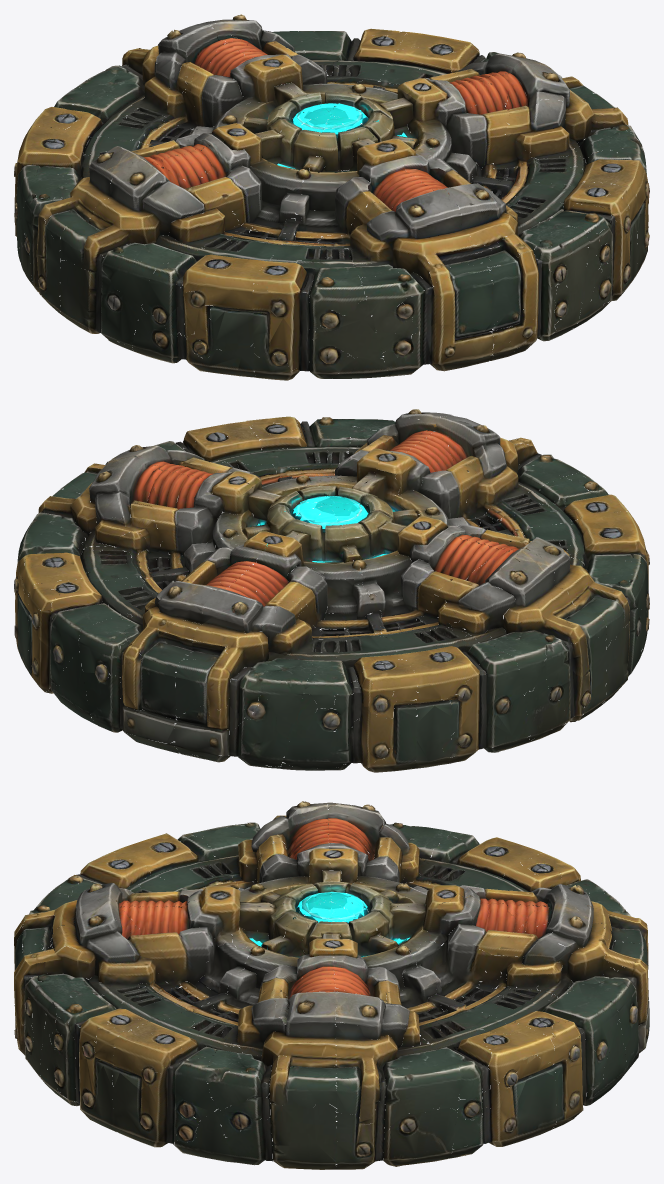
The model's file is warrior-3-tier-1.glb.
3 views of the same model, one above another, from view 1: azimuth 30°, elevation 25°; view 2: azimuth 150°, elevation 25°; view 3: azimuth 270°, elevation 25° (orthographic).
Parts seen in each view (by area): view 1: moving-assembly, fixed-platform; view 2: moving-assembly, fixed-platform; view 3: moving-assembly, fixed-platform.
Part boxes in pixels (x1,y1,x2,y2): moving-assembly: (14,14,649,343); fixed-platform: (14,116,649,380); moving-assembly: (14,409,649,736); fixed-platform: (14,489,649,772); moving-assembly: (14,801,648,1142); fixed-platform: (14,926,649,1169).
Bounding box in the file's own units: 0.8156 × 0.2165 × 0.8246.
2 materials, 2 textured.
